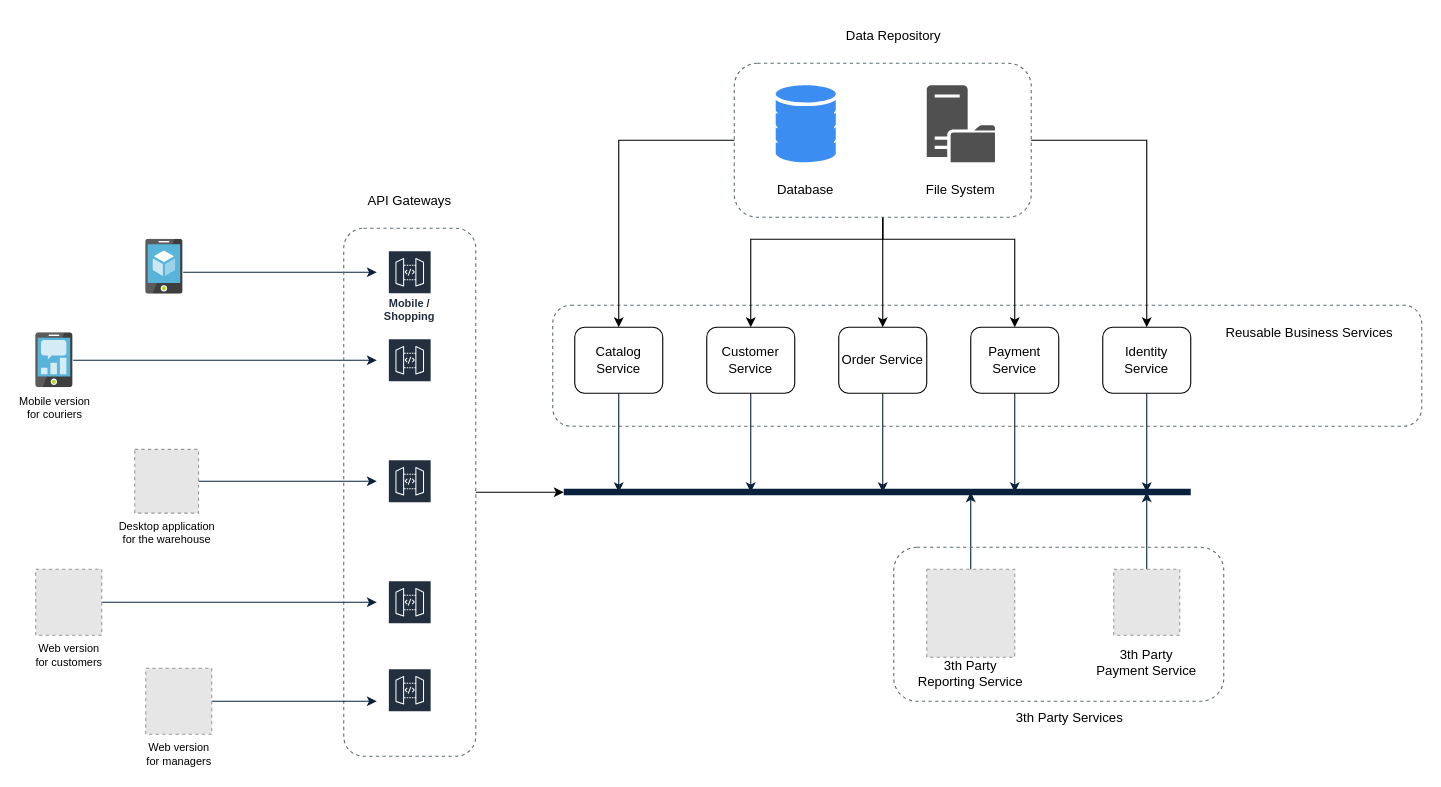
Some shapes in this 1441 by 787 pixel diagram are drawn without their labels. Grey dashed boxes stand in for pictures. Here are the shapes that lost their labels. From the top down, the centre of each, then its label:
At [164,266]: "Mobile version for customers".
At [409,376]: "Mobile / Couriers".
At [409,497]: "Desktop/ Warehouse".
At [409,618]: "Web / Shopping".
At [409,706]: "Web / Managers".
